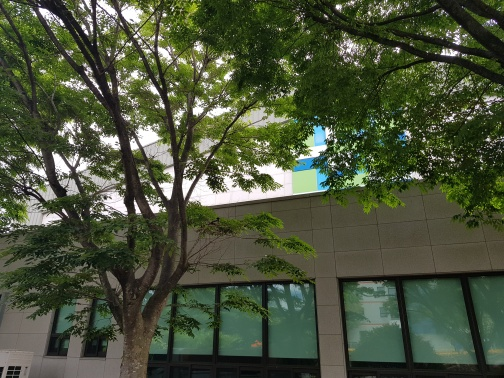Gym: (201, 137, 502, 368)
